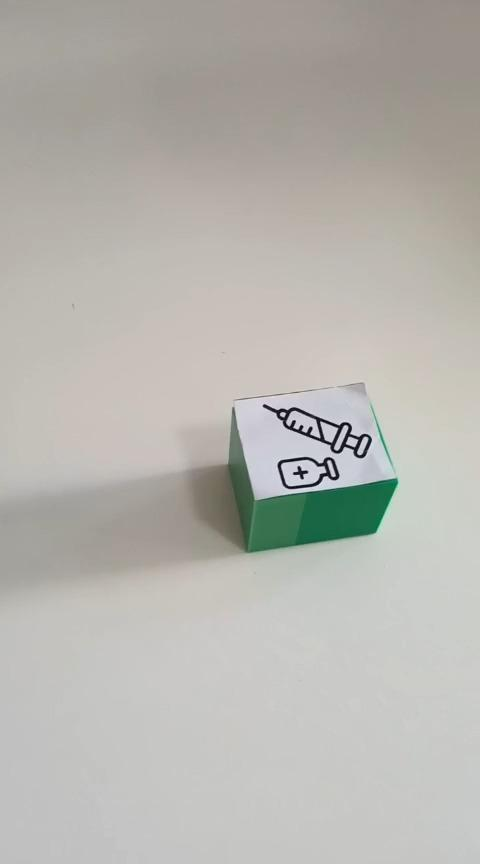antiseptic cream: (226, 380, 398, 553)
